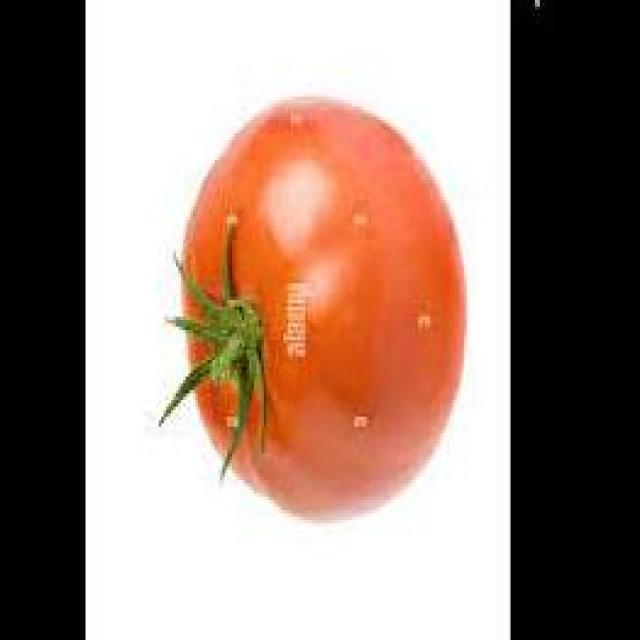Tomato: (176, 90, 476, 528)
